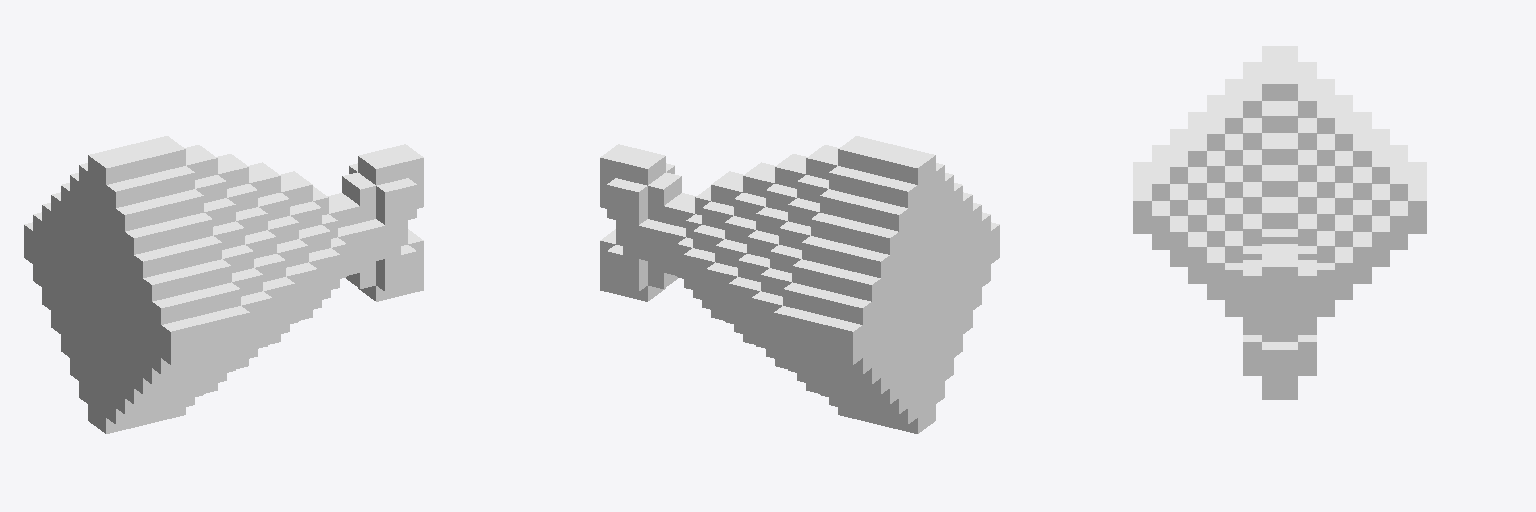
The model's file is Ham.obj.
The picture shows the model from 3 angles: view 1: azimuth 30°, elevation 25°; view 2: azimuth 150°, elevation 25°; view 3: azimuth 270°, elevation 25°; orthographic projection.
Parts seen in each view (by area): view 1: Ham; view 2: Ham; view 3: Ham.
Boxes of the visible parts, x1=… form: Ham: x1=24, y1=136, x2=423, y2=433; Ham: x1=600, y1=136, x2=999, y2=433; Ham: x1=1133, y1=46, x2=1426, y2=399.
Size of the model in its own units: 20 by 16 by 16.